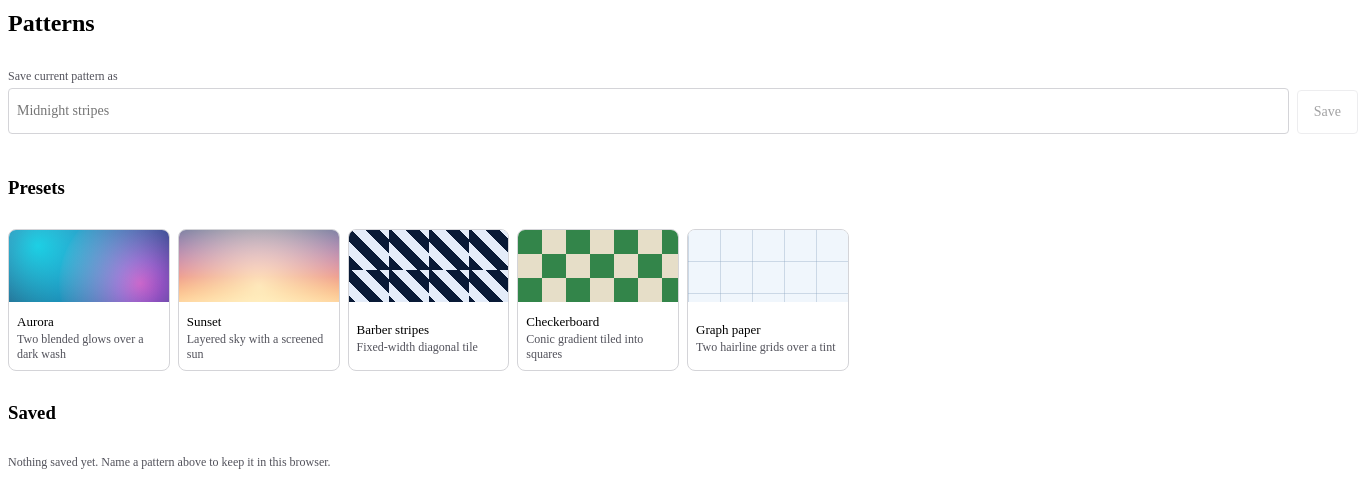
Test: PatternLibrary › reports a full storage quota instead of failing silently
Type "Midnight" into the field labelled "Save current pattern as".
click(648, 111); type("Midnight")  # box [8,88,1289,134]
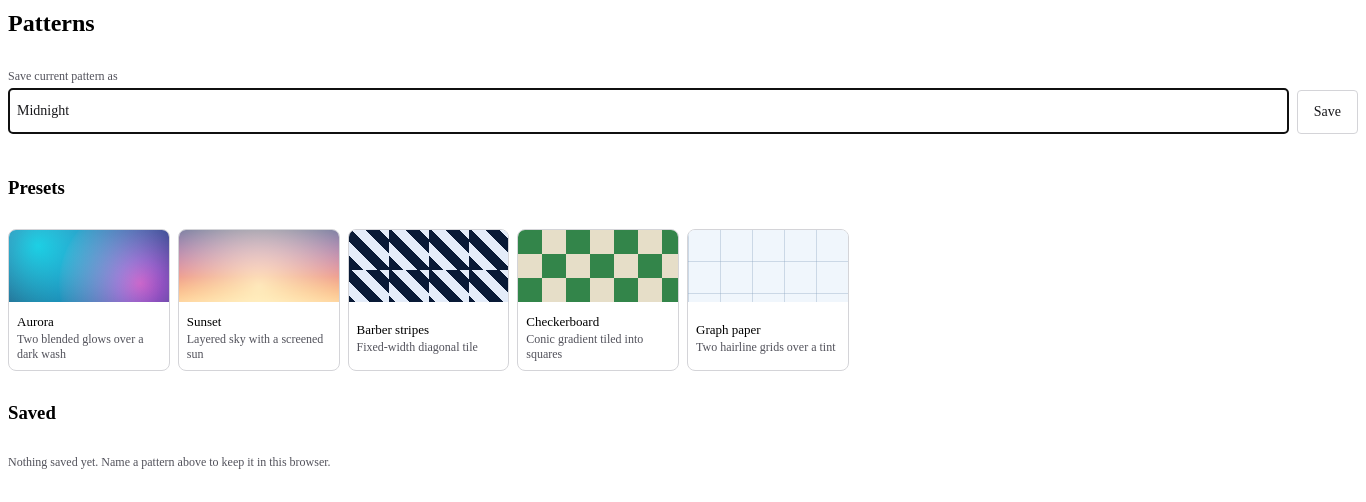
Click the button "Save".
click(1327, 112)  # box [1297,90,1358,134]
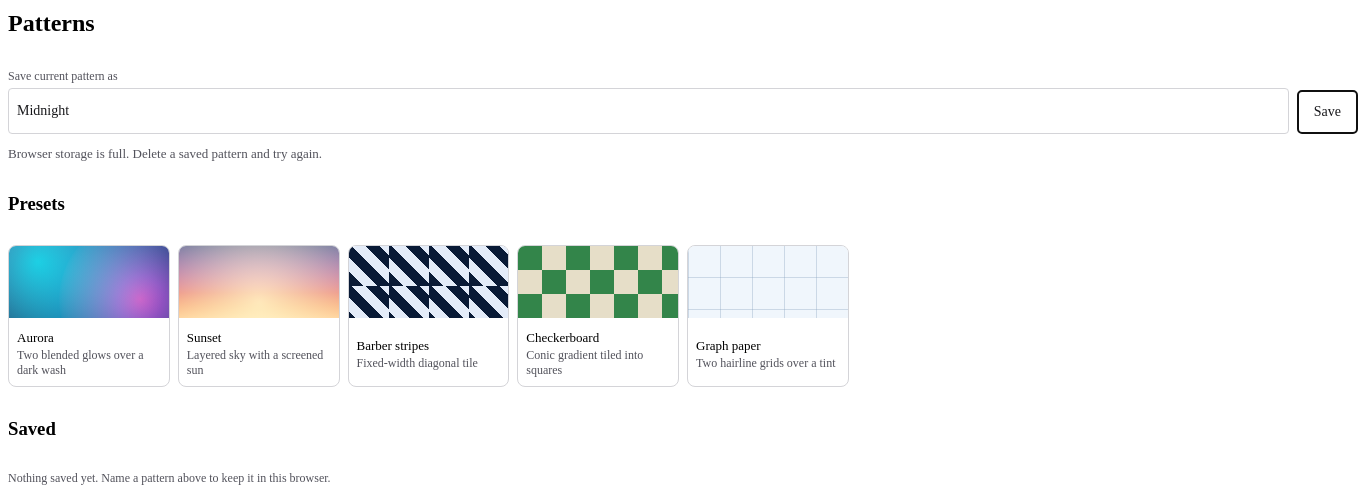
expect the message shows "Browser storage is full": met, box [8,146,322,161]
